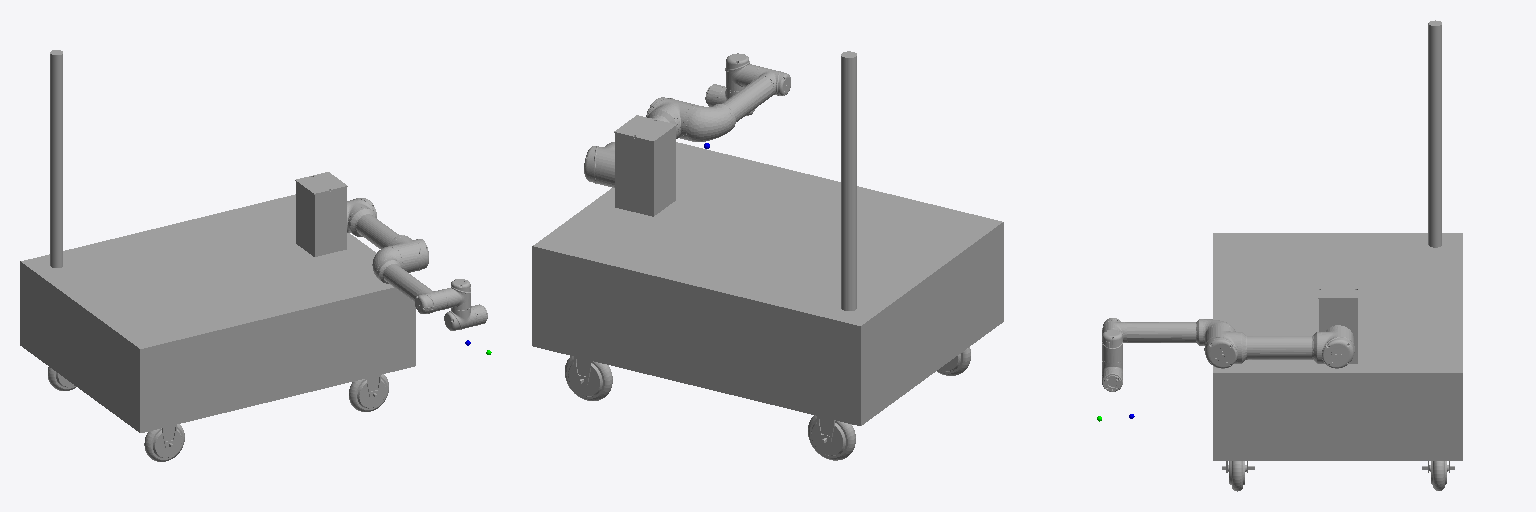
The robot description file, URDF, robot "ur5e":
<?xml version="1.0" encoding="utf-8"?>
<!-- =================================================================================== -->
<!-- |    This document was autogenerated by xacro from ./ur5e_robot.urdf.xacro        | -->
<!-- |    EDITING THIS FILE BY HAND IS NOT RECOMMENDED                                 | -->
<!-- =================================================================================== -->
<robot name="ur5e" xmlns:xacro="http://ros.org/wiki/xacro">
  <gazebo>
    <plugin filename="libgazebo_ros_control.so" name="ros_control">
      <!--robotNamespace>/</robotNamespace-->
      <!--robotSimType>gazebo_ros_control/DefaultRobotHWSim</robotSimType-->
    </plugin>
  </gazebo>
  <!--property name="shoulder_height" value="0.089159" /-->
  <!--property name="shoulder_offset" value="0.13585" /-->
  <!-- shoulder_offset - elbow_offset + wrist_1_length = 0.10915 -->
  <!--property name="upper_arm_length" value="0.42500" /-->
  <!--property name="elbow_offset" value="0.1197" /-->
  <!-- CAD measured -->
  <!--property name="forearm_length" value="0.39225" /-->
  <!--property name="wrist_1_length" value="0.093" /-->
  <!-- CAD measured -->
  <!--property name="wrist_2_length" value="0.09465" /-->
  <!-- In CAD this distance is 0.930, but in the spec it is 0.09465 -->
  <!--property name="wrist_3_length" value="0.0823" /-->
  <!-- manually measured -->

  <link name="car_link">
    <visual>
      <origin rpy="0.0 0.0 0.0" xyz="0.0 0.0 0.207"/>
      <geometry>
        <mesh filename="package://bit_robotcar/meshes/car_link.dae"/>
      </geometry>
      <material name="LightGrey">
        <color rgba="0.7 0.7 0.7 1.0"/>
      </material>
    </visual>
    <collision>
      <geometry>
        <mesh filename="package://bit_robotcar/meshes/car_link.dae"/>
      </geometry>
    </collision>
    <inertial>
      <mass value="379.0"/>
      <origin rpy="0 0 0" xyz="0.0 0.0 0.0"/>
      <inertia ixx="29.73" ixy="0.0" ixz="0.0" iyy="49.44" iyz="0.0" izz="71.42"/>
    </inertial>
  </link>
  <joint name="car_base_joint" type="fixed">
    <parent link="car_link"/>
    <child link="base_link"/>
    <origin rpy="0.0 0.0 1.57079" xyz="0.45 0 0.490"/>
    <axis xyz="0 0 1"/>
    <limit effort="150.0" lower="-6.28318530718" upper="6.28318530718" velocity="3.15"/>
    <dynamics damping="0.0" friction="0.0"/>
  </joint>

  <link name="base_link">
    <visual>
      <geometry>
        <mesh filename="package://bit_robotcar/meshes/ur5e/visual/base.dae"/>
      </geometry>
      <material name="LightGrey">
        <color rgba="0.7 0.7 0.7 1.0"/>
      </material>
    </visual>
    <collision>
      <geometry>
        <mesh filename="package://bit_robotcar/meshes/ur5e/collision/base.stl"/>
      </geometry>
    </collision>
    <inertial>
      <mass value="4.0"/>
      <origin rpy="0 0 0" xyz="0.0 0.0 0.0"/>
      <inertia ixx="0.00443333156" ixy="0.0" ixz="0.0" iyy="0.00443333156" iyz="0.0" izz="0.0072"/>
    </inertial>
  </link>

  <joint name="shoulder_pan_joint" type="revolute">
    <parent link="base_link"/>
    <child link="shoulder_link"/>
    <origin rpy="0.0 0.0 -3.141593" xyz="0.0 0.0 0.163"/>
    <axis xyz="0 0 1"/>
    <limit effort="150.0" lower="-6.28318530718" upper="6.28318530718" velocity="3.14"/>
    <dynamics damping="0.0" friction="0.0"/>
  </joint>
  <link name="shoulder_link">
    <visual>
      <geometry>
        <mesh filename="package://bit_robotcar/meshes/ur5e/visual/shoulder.dae"/>
      </geometry>
      <material name="LightGrey">
        <color rgba="0.7 0.7 0.7 1.0"/>
      </material>
    </visual>
    <collision>
      <geometry>
        <mesh filename="package://bit_robotcar/meshes/ur5e/collision/shoulder.stl"/>
      </geometry>
    </collision>
    <inertial>
      <mass value="3.7"/>
      <origin rpy="0 0 0" xyz="0.0 0.0 0.0"/>
      <inertia ixx="0.010267495893" ixy="0.0" ixz="0.0" iyy="0.010267495893" iyz="0.0" izz="0.00666"/>
    </inertial>
  </link>
  <joint name="shoulder_lift_joint" type="revolute">
    <parent link="shoulder_link"/>
    <child link="upper_arm_link"/>
    <origin rpy="0.0 1.57079632679 0.0" xyz="0.0 0.138 0.0"/>
    <axis xyz="0 1 0"/>
    <limit effort="150.0" lower="-6.28318530718" upper="6.28318530718" velocity="3.14"/>
    <dynamics damping="0.0" friction="0.0"/>
  </joint>
  <link name="upper_arm_link">
    <visual>
      <geometry>
        <mesh filename="package://bit_robotcar/meshes/ur5e/visual/upperarm.dae"/>
      </geometry>
      <material name="LightGrey">
        <color rgba="0.7 0.7 0.7 1.0"/>
      </material>
    </visual>
    <collision>
      <geometry>
        <mesh filename="package://bit_robotcar/meshes/ur5e/collision/upperarm.stl"/>
      </geometry>
    </collision>
    <inertial>
      <mass value="8.393"/>
      <origin rpy="0 0 0" xyz="0.0 0.0 0.2125"/>
      <inertia ixx="0.133885781862" ixy="0.0" ixz="0.0" iyy="0.133885781862" iyz="0.0" izz="0.0151074"/>
    </inertial>
  </link>
  <joint name="elbow_joint" type="revolute">
    <parent link="upper_arm_link"/>
    <child link="forearm_link"/>
    <origin rpy="0.0 0.0 0.0" xyz="0.0 -0.131 0.425"/>
    <axis xyz="0 1 0"/>
    <limit effort="150.0" lower="-3.14159265359" upper="3.14159265359" velocity="3.14"/>
    <dynamics damping="0.0" friction="0.0"/>
  </joint>
  <link name="forearm_link">
    <visual>
      <geometry>
        <mesh filename="package://bit_robotcar/meshes/ur5e/visual/forearm.dae"/>
      </geometry>
      <material name="LightGrey">
        <color rgba="0.7 0.7 0.7 1.0"/>
      </material>
    </visual>
    <collision>
      <geometry>
        <mesh filename="package://bit_robotcar/meshes/ur5e/collision/forearm.stl"/>
      </geometry>
    </collision>
    <inertial>
      <mass value="2.275"/>
      <origin rpy="0 0 0" xyz="0.0 0.0 0.196"/>
      <inertia ixx="0.0311796208615" ixy="0.0" ixz="0.0" iyy="0.0311796208615" iyz="0.0" izz="0.004095"/>
    </inertial>
  </link>
  <joint name="wrist_1_joint" type="revolute">
    <parent link="forearm_link"/>
    <child link="wrist_1_link"/>
    <origin rpy="0.0 1.57079632679 0.0" xyz="0.0 0.0 0.392"/>
    <axis xyz="0 1 0"/>
    <limit effort="28.0" lower="-6.28318530718" upper="6.28318530718" velocity="6.28"/>
    <dynamics damping="0.0" friction="0.0"/>
  </joint>
  <link name="wrist_1_link">
    <visual>
      <geometry>
        <mesh filename="package://bit_robotcar/meshes/ur5e/visual/wrist1.dae"/>
      </geometry>
      <material name="LightGrey">
        <color rgba="0.7 0.7 0.7 1.0"/>
      </material>
    </visual>
    <collision>
      <geometry>
        <mesh filename="package://bit_robotcar/meshes/ur5e/collision/wrist1.stl"/>
      </geometry>
    </collision>
    <inertial>
      <mass value="1.219"/>
      <origin rpy="0 0 0" xyz="0.0 0.127 0.0"/>
      <inertia ixx="0.00255989897604" ixy="0.0" ixz="0.0" iyy="0.00255989897604" iyz="0.0" izz="0.0021942"/>
    </inertial>
  </link>
  <joint name="wrist_2_joint" type="revolute">
    <parent link="wrist_1_link"/>
    <child link="wrist_2_link"/>
    <origin rpy="0.0 0.0 0.0" xyz="0.0 0.127 0.0"/>
    <axis xyz="0 0 1"/>
    <limit effort="28.0" lower="-6.28318530718" upper="6.28318530718" velocity="6.28"/>
    <dynamics damping="0.0" friction="0.0"/>
  </joint>
  <link name="wrist_2_link">
    <visual>
      <geometry>
        <mesh filename="package://bit_robotcar/meshes/ur5e/visual/wrist2.dae"/>
      </geometry>
      <material name="LightGrey">
        <color rgba="0.7 0.7 0.7 1.0"/>
      </material>
    </visual>
    <collision>
      <geometry>
        <mesh filename="package://bit_robotcar/meshes/ur5e/collision/wrist2.stl"/>
      </geometry>
    </collision>
    <inertial>
      <mass value="1.219"/>
      <origin rpy="0 0 0" xyz="0.0 0.0 0.1"/>
      <inertia ixx="0.00255989897604" ixy="0.0" ixz="0.0" iyy="0.00255989897604" iyz="0.0" izz="0.0021942"/>
    </inertial>
  </link>
  <joint name="wrist_3_joint" type="revolute">
    <parent link="wrist_2_link"/>
    <child link="wrist_3_link"/>
    <origin rpy="0.0 0.0 0.0" xyz="0.0 0.0 0.1"/>
    <axis xyz="0 1 0"/>
    <limit effort="28.0" lower="-6.28318530718" upper="6.28318530718" velocity="6.28"/>
    <dynamics damping="0.0" friction="0.0"/>
  </joint>
  <link name="wrist_3_link">
    <visual>
      <geometry>
        <mesh filename="package://bit_robotcar/meshes/ur5e/visual/wrist3.dae"/>
      </geometry>
      <material name="LightGrey">
        <color rgba="0.7 0.7 0.7 1.0"/>
      </material>
    </visual>
    <collision>
      <geometry>
        <mesh filename="package://bit_robotcar/meshes/ur5e/collision/wrist3.stl"/>
      </geometry>
    </collision>
    <inertial>
      <mass value="0.1879"/>
      <origin rpy="1.57079632679 0 0" xyz="0.0 0.0771 0.0"/>
      <inertia ixx="9.89041005217e-05" ixy="0.0" ixz="0.0" iyy="9.89041005217e-05" iyz="0.0" izz="0.0001321171875"/>
    </inertial>
  </link>
  <joint name="grasping_frame_joint" type="fixed">
    <parent link="wrist_3_link"/>
    <child link ="grasping_frame"/>
    <origin xyz="0 0.09237 0" rpy="0 0 0"/>
  </joint>
  <link name="grasping_frame">
  <!-- this link refers to end effector.  -->
    <visual>
      <geometry>
        <mesh filename="package://bit_robotcar/meshes/ur5e/visual/endEffector_challenge2.dae"/>
      </geometry>
      <material name="LightGrey">
        <color rgba="0.7 0.7 0.7 1.0"/>
      </material>
    </visual>
    <inertial>
      <mass value="0.1879"/>
      <origin rpy="0 0 0" xyz="0.0 162.25 0.0"/>
      <inertia ixx="0.0171364731454" ixy="0.0" ixz="0.0" iyy="0.0171364731454" iyz="0.0" izz="0.033822"/>
    </inertial>
  </link>
  <joint name="MER_joint" type="fixed">
    <origin xyz="0.0695 -0.022 0.143" rpy="-1.57079 0.0 0.0"/>
    <parent link="grasping_frame"/>
    <child link="MER_link"/>
  </joint>

  <link name="MER_link">
  <!-- this link refers to the surface of magnet -->
    <inertial>
      <mass value="1.219"/>
      <origin rpy="0 0 0" xyz="0.0 0.0 0.0"/>
      <inertia ixx="0.111172755531" ixy="0.0" ixz="0.0" iyy="0.111172755531" iyz="0.0" izz="0.21942"/>
    </inertial>
    <visual name="">
      <origin xyz="0.0 0.0 0.0" rpy="0.0 0.0 0.0"/>
      <geometry>
          <sphere radius="0.01"/>
      </geometry>
      <material name="">
        <color rgba="0.0 0.0 1.0 1.0"/>
        <texture filename=""/>
      </material>
    </visual>
  </link>

  <joint name="zed_joint" type="fixed">
    <parent link="grasping_frame"/>
    <child link="zed_link"/>
    <origin xyz="-0.0465 0.0015 0.142 " rpy="-1.57079 0.0 0.0"/>
  </joint>
  <link name="zed_link">
    <inertial>
      <mass value="0.1879"/>
      <origin rpy="0 0 0" xyz="0.0 0 0.0"/>
      <inertia ixx="0.0171364731454" ixy="0.0" ixz="0.0" iyy="0.0171364731454" iyz="0.0" izz="0.033822"/>
    </inertial>
    <visual name="">
      <origin xyz="0.0 0.0 0.0" rpy="0.0 0.0 0.0"/>
      <geometry>
          <sphere radius="0.01"/>
      </geometry>
      <material name="">
        <color rgba="0.0 1.0 0.0 1.0"/>
        <texture filename=""/>
      </material>
    </visual>
  </link>

  <transmission name="shoulder_pan_trans">
    <type>transmission_interface/SimpleTransmission</type>
    <joint name="shoulder_pan_joint">
      <hardwareInterface>hardware_interface/PositionJointInterface</hardwareInterface>
    </joint>
    <actuator name="shoulder_pan_motor">
      <mechanicalReduction>1</mechanicalReduction>
    </actuator>
  </transmission>
  <transmission name="shoulder_lift_trans">
    <type>transmission_interface/SimpleTransmission</type>
    <joint name="shoulder_lift_joint">
      <hardwareInterface>hardware_interface/PositionJointInterface</hardwareInterface>
    </joint>
    <actuator name="shoulder_lift_motor">
      <mechanicalReduction>1</mechanicalReduction>
    </actuator>
  </transmission>
  <transmission name="elbow_trans">
    <type>transmission_interface/SimpleTransmission</type>
    <joint name="elbow_joint">
      <hardwareInterface>hardware_interface/PositionJointInterface</hardwareInterface>
    </joint>
    <actuator name="elbow_motor">
      <mechanicalReduction>1</mechanicalReduction>
    </actuator>
  </transmission>
  <transmission name="wrist_1_trans">
    <type>transmission_interface/SimpleTransmission</type>
    <joint name="wrist_1_joint">
      <hardwareInterface>hardware_interface/PositionJointInterface</hardwareInterface>
    </joint>
    <actuator name="wrist_1_motor">
      <mechanicalReduction>1</mechanicalReduction>
    </actuator>
  </transmission>
  <transmission name="wrist_2_trans">
    <type>transmission_interface/SimpleTransmission</type>
    <joint name="wrist_2_joint">
      <hardwareInterface>hardware_interface/PositionJointInterface</hardwareInterface>
    </joint>
    <actuator name="wrist_2_motor">
      <mechanicalReduction>1</mechanicalReduction>
    </actuator>
  </transmission>
  <transmission name="wrist_3_trans">
    <type>transmission_interface/SimpleTransmission</type>
    <joint name="wrist_3_joint">
      <hardwareInterface>hardware_interface/PositionJointInterface</hardwareInterface>
    </joint>
    <actuator name="wrist_3_motor">
      <mechanicalReduction>1</mechanicalReduction>
    </actuator>
  </transmission>
  <gazebo reference="shoulder_link">
    <selfCollide>true</selfCollide>
  </gazebo>
  <gazebo reference="upper_arm_link">
    <selfCollide>true</selfCollide>
  </gazebo>
  <gazebo reference="forearm_link">
    <selfCollide>true</selfCollide>
  </gazebo>
  <gazebo reference="wrist_1_link">
    <selfCollide>true</selfCollide>
  </gazebo>
  <gazebo reference="wrist_3_link">
    <selfCollide>true</selfCollide>
  </gazebo>
  <gazebo reference="wrist_2_link">
    <selfCollide>true</selfCollide>
  </gazebo>
  <gazebo reference="ee_link">
    <selfCollide>true</selfCollide>
  </gazebo>
</robot>

--- Render facts (derived) ---
Views: 3 orthographic renders of the robot side by side, from view 1: azimuth 30°, elevation 25°; view 2: azimuth 150°, elevation 25°; view 3: azimuth 270°, elevation 25°.
Robot: ur5e — 11 links, 10 joints (6 revolute, 4 fixed); root link car_link; default pose: all joints at 0.
Links seen in each view (by area): view 1: car_link, upper_arm_link, forearm_link, wrist_1_link, wrist_2_link; view 2: car_link, forearm_link, upper_arm_link, wrist_1_link; view 3: car_link, upper_arm_link, forearm_link, wrist_1_link.
Boxes of the visible links, box(x1,y1,x2,y2) form: car_link: box(20, 50, 415, 461); upper_arm_link: box(347, 198, 428, 272); forearm_link: box(372, 246, 448, 313); wrist_1_link: box(442, 279, 470, 311); wrist_2_link: box(444, 306, 477, 330); car_link: box(532, 51, 1003, 460); forearm_link: box(686, 67, 790, 141); upper_arm_link: box(584, 97, 698, 187); wrist_1_link: box(725, 53, 759, 92); car_link: box(1213, 20, 1462, 491); upper_arm_link: box(1204, 324, 1354, 368); forearm_link: box(1102, 318, 1235, 345); wrist_1_link: box(1102, 329, 1122, 364).
Bounding box of the posed robot: 1.29 × 1.33 × 1.42 m (x, y, z).
Meshes: 9 distinct files referenced, 8 mesh visuals loaded (8 Collada DAE); not drawn: 1 (reference not matched to a file when rendering).